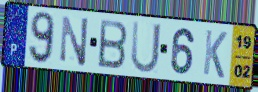6: (170, 26, 196, 77)
9: (27, 10, 57, 65)
B: (97, 18, 129, 71)
K: (201, 28, 229, 81)
N: (59, 14, 91, 69)
U: (130, 19, 163, 75)
